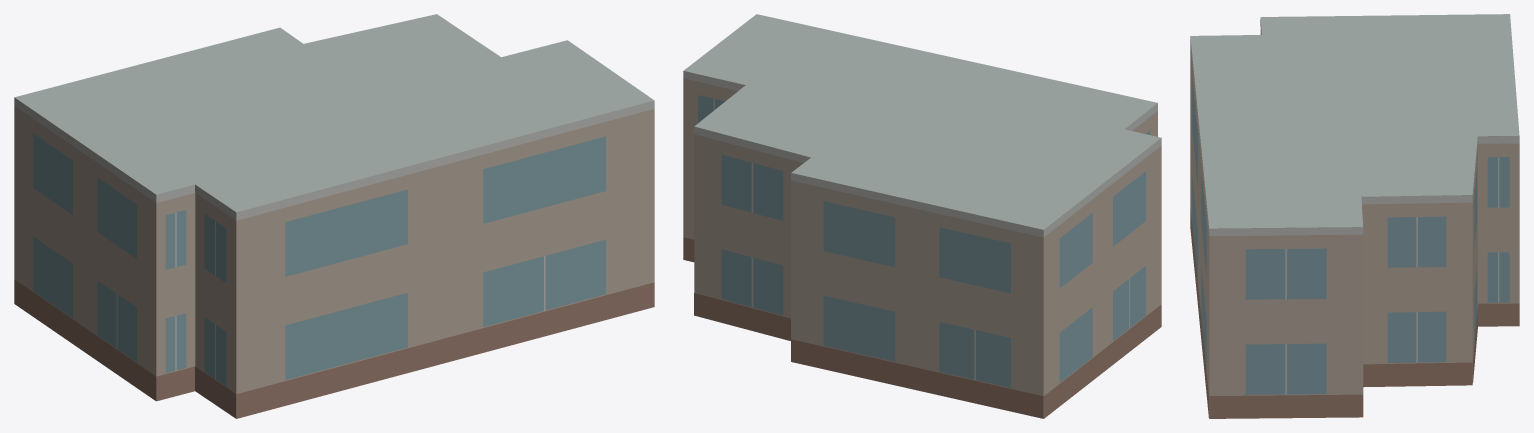
Rendered from survey-upis-32469570.glb.
3 views of the same model, side by side, from view 1: azimuth 30°, elevation 25°; view 2: azimuth 150°, elevation 25°; view 3: azimuth 270°, elevation 25° (orthographic). The views are drawn at different scales.
Parts seen in each view (by area): view 1: survey-upis-32469570.tmp; view 2: survey-upis-32469570.tmp; view 3: survey-upis-32469570.tmp.
Boxes of the visible parts, left/top/right/bottom form: survey-upis-32469570.tmp: left=14, top=14, right=654, bottom=418; survey-upis-32469570.tmp: left=683, top=14, right=1161, bottom=418; survey-upis-32469570.tmp: left=1190, top=14, right=1519, bottom=418.
Size of the model in its own units: 14.76 by 6.1 by 9.57.
